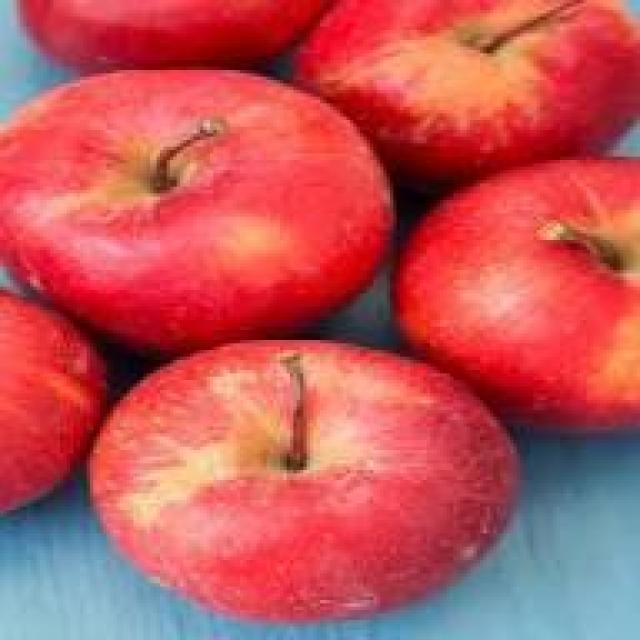apple: (116, 343, 526, 620), (13, 93, 387, 327), (296, 3, 636, 174), (413, 174, 637, 404)
